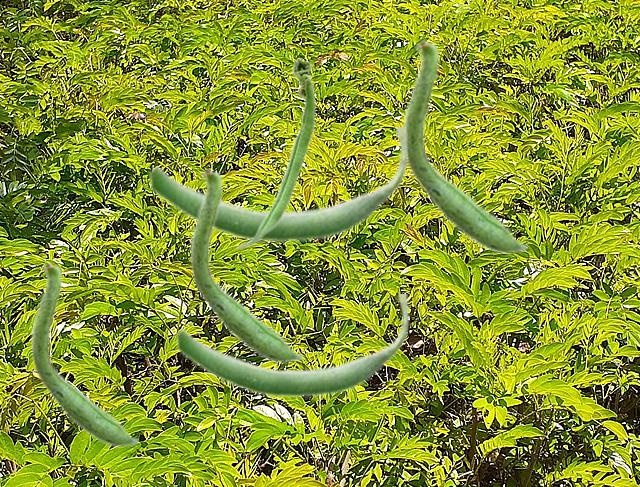french_bean: (148, 127, 408, 243), (402, 37, 528, 254), (175, 294, 409, 398), (189, 166, 303, 363), (30, 260, 139, 447), (234, 57, 315, 249)
